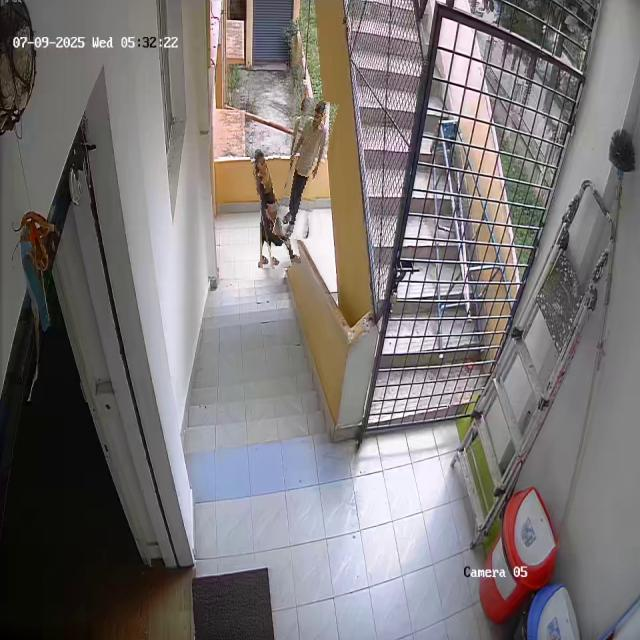person: (281, 97, 331, 240), (254, 144, 296, 269)
